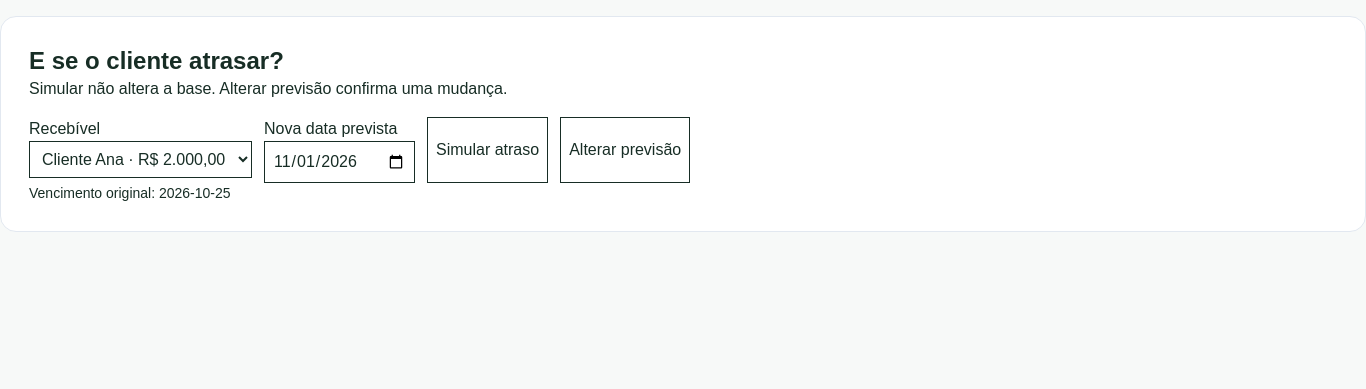
Test: T17 mudar data invalida resultado anterior
Click the button "Simular atraso" at [488, 150], box [427, 117, 548, 183]
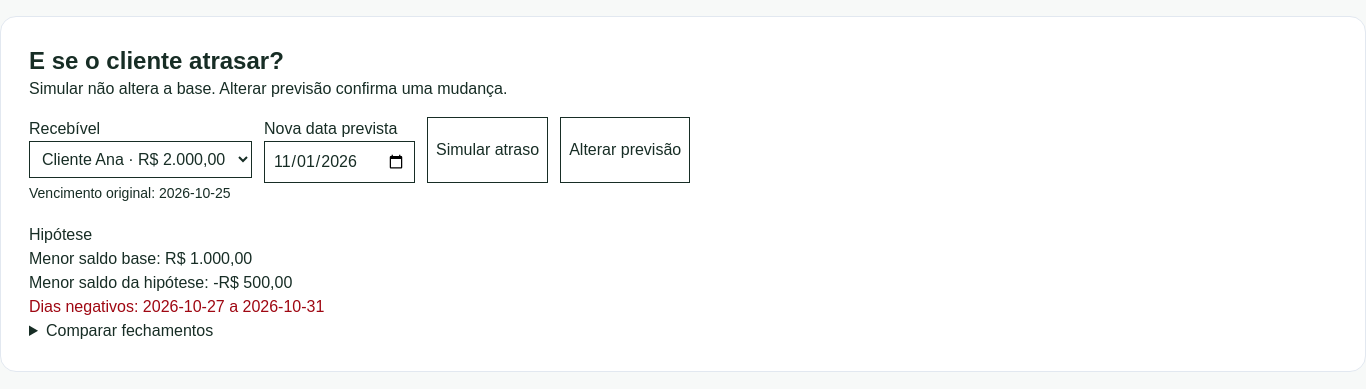
Now the heading "Hipótese" is shown, box [29, 226, 92, 243]
Type "2026-11-02" into the date field labelled "Nova data prevista" at [340, 162], box [264, 141, 415, 183]
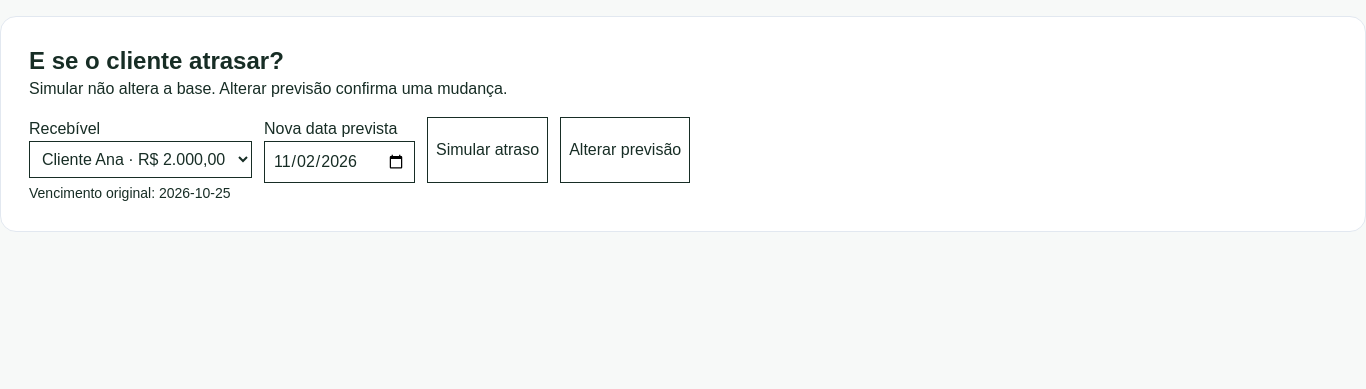
Now the heading "Hipótese" is gone
